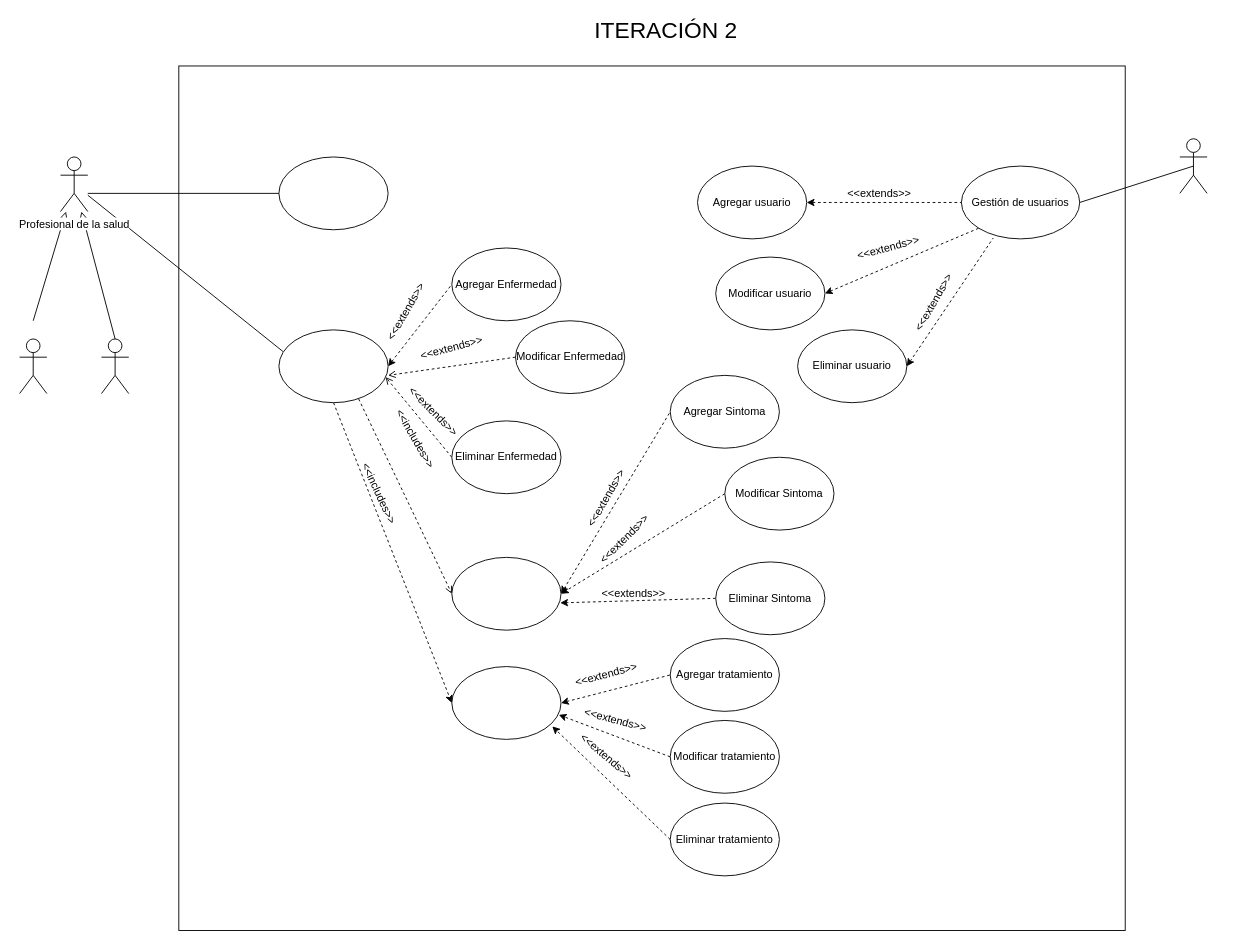
Some shapes in this 1243 by 946 pixel diagram are drawn without their labels. Here are the shapes that lost their labels. From the top down, the box of each, then its label:
(1179, 138, 1207, 193): Administrador
(278, 156, 388, 230): Registro de usuarios
(19, 338, 47, 394): Médico
(101, 338, 129, 394): Investigador
(278, 329, 388, 403): Gestión de Enfermedades
(451, 556, 561, 630): Gestión de Síntomas
(451, 666, 561, 739): Gestión de tratamientos
